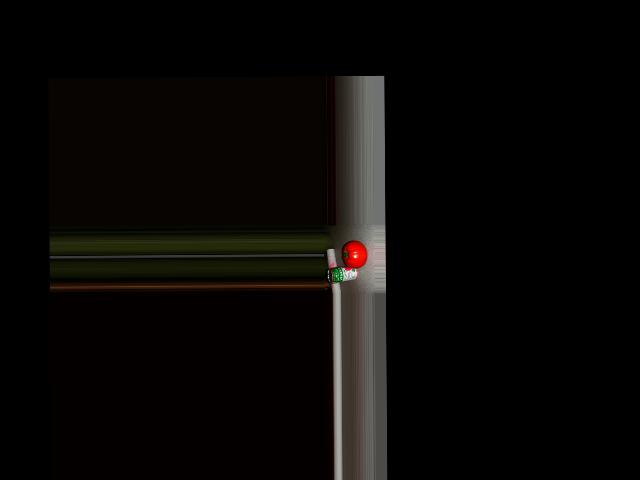tomato: (343, 240, 367, 268)
